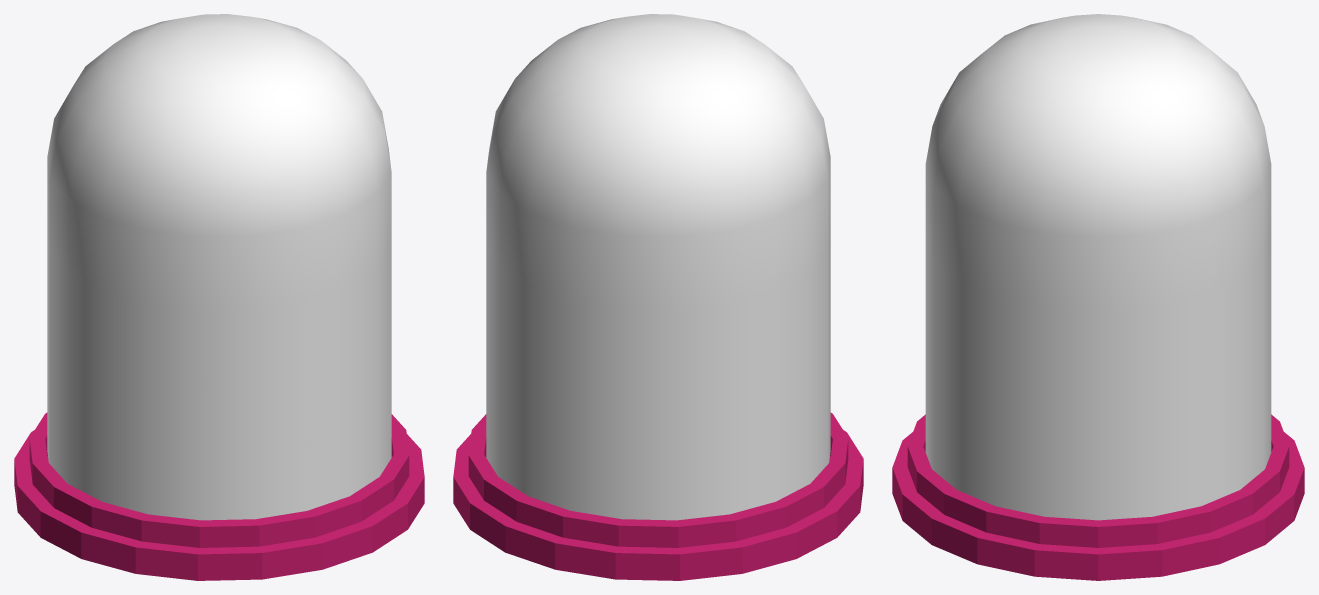
The picture shows the model from 3 angles, left to right: view 1: azimuth 30°, elevation 25°; view 2: azimuth 150°, elevation 25°; view 3: azimuth 270°, elevation 25°; orthographic projection.
Parts seen in each view (by area): view 1: capsuleGlass_geo, capsuleBase_geo; view 2: capsuleGlass_geo, capsuleBase_geo; view 3: capsuleGlass_geo, capsuleBase_geo.
Part boxes in pixels (x1,y1,x2,y2): capsuleGlass_geo: [47, 14, 391, 520]; capsuleBase_geo: [14, 412, 424, 580]; capsuleGlass_geo: [486, 14, 830, 520]; capsuleBase_geo: [453, 412, 863, 580]; capsuleGlass_geo: [925, 14, 1271, 520]; capsuleBase_geo: [892, 414, 1304, 580].
Bounding box in the file's own units: 492 × 597 × 492.
